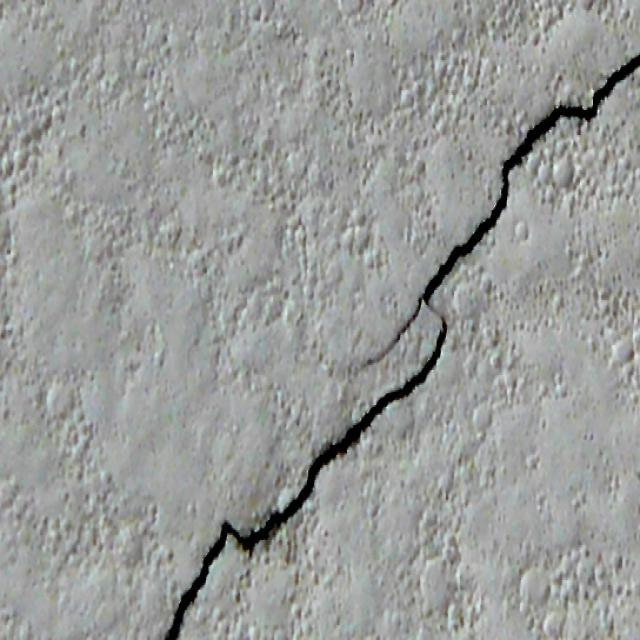Diagonal: (422, 53, 640, 288), (154, 432, 376, 640)
Network: (364, 289, 450, 426)
